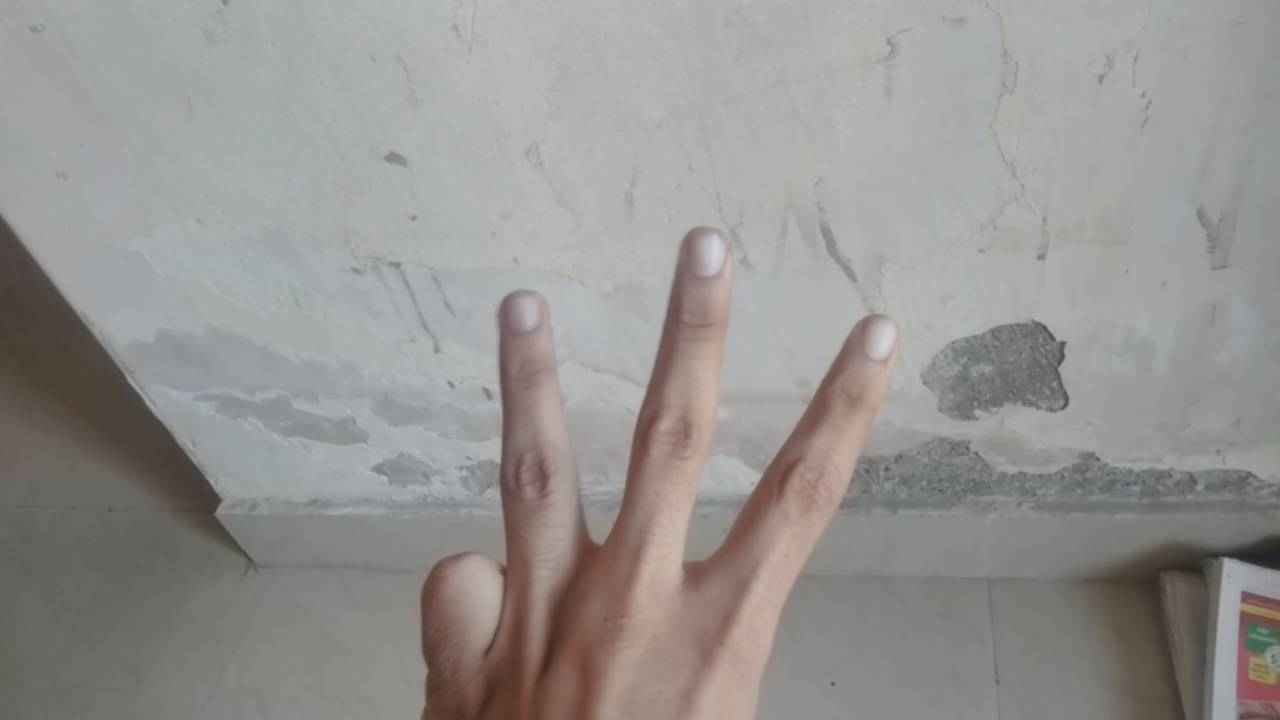fingertip: (842, 310, 914, 368), (674, 226, 742, 286), (494, 286, 556, 348)
